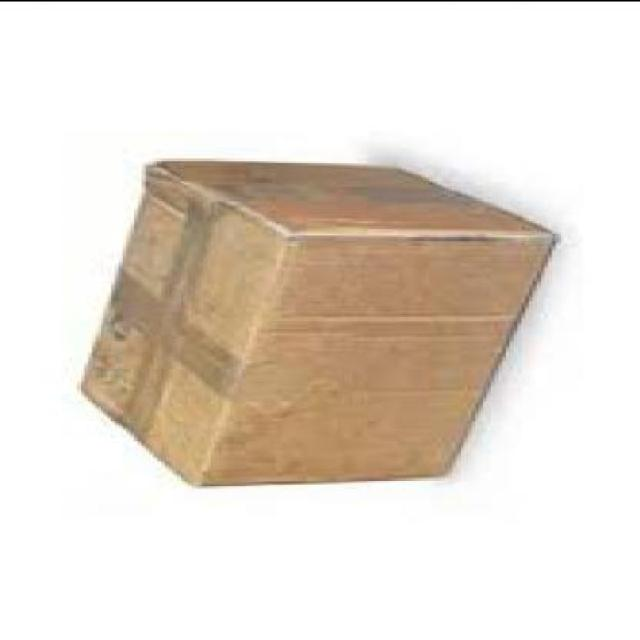CARDBOARD: (76, 159, 556, 487)
